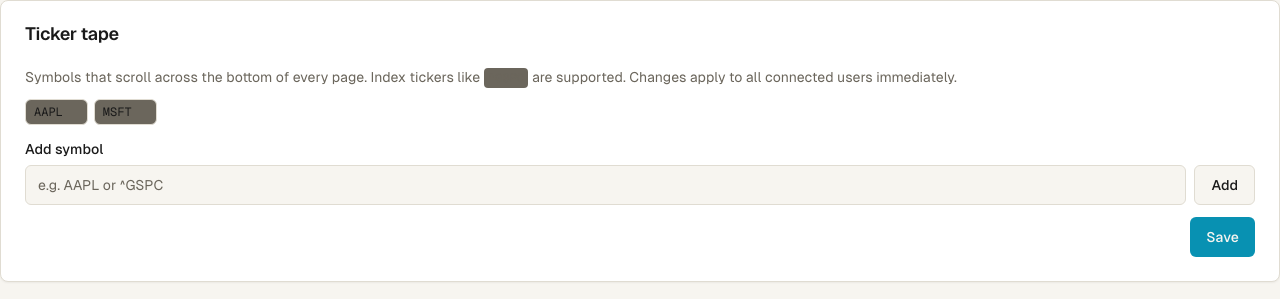
TickerTapeEditor › uppercases input on add
Type "tsla" into the field labelled "Add symbol" at (606, 185), box [25, 165, 1186, 205]
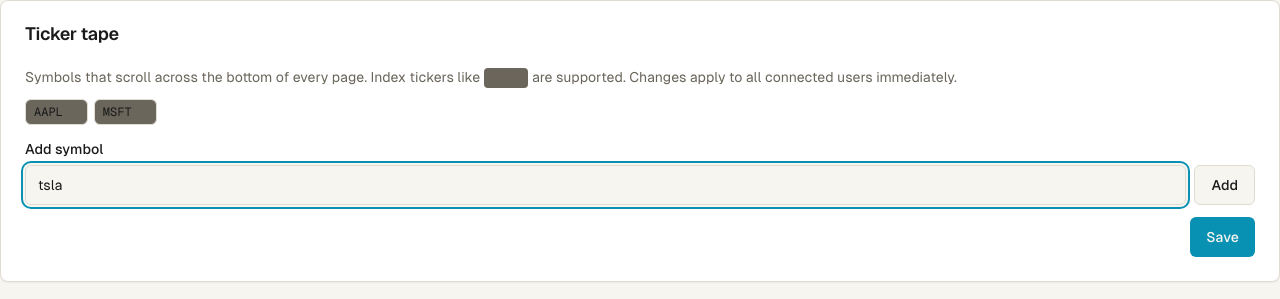
Click the button "Add" at (1225, 185), box [1194, 165, 1255, 205]
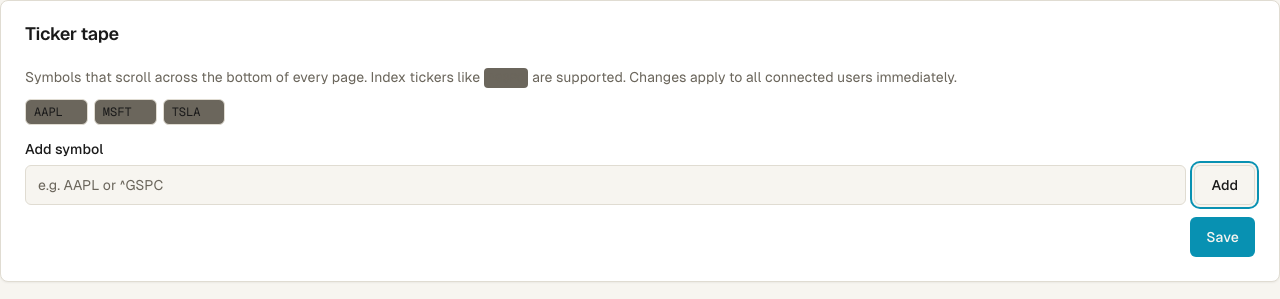
Expected: the text "TSLA" is shown, [172, 104, 200, 120]
